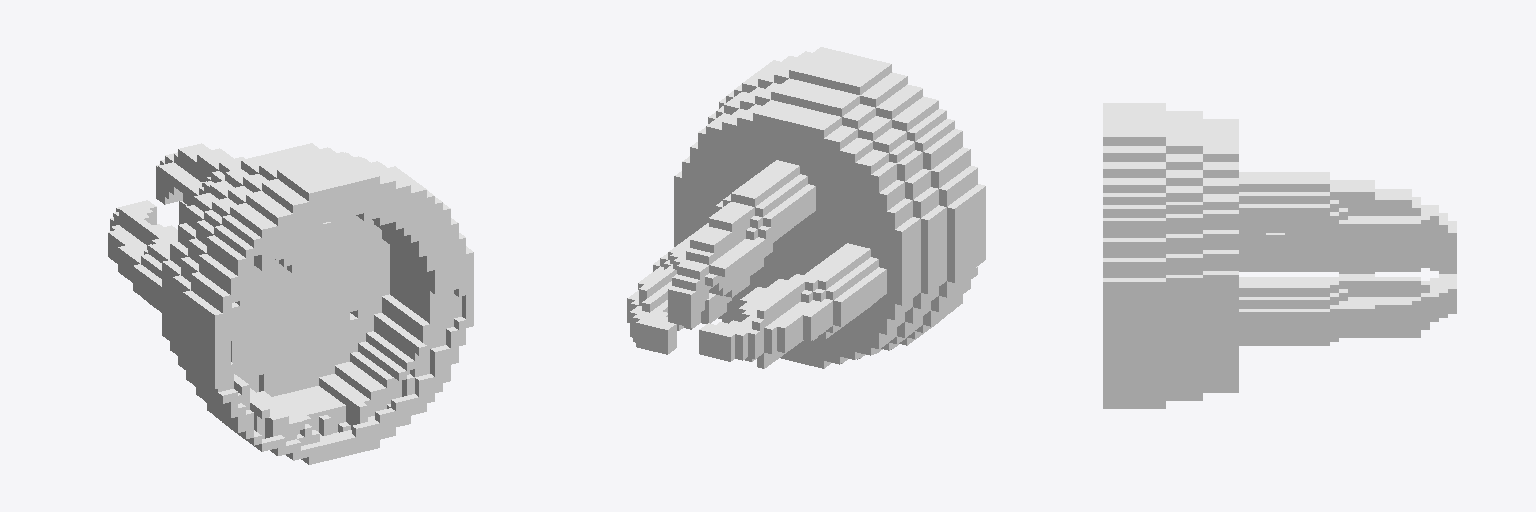
The model's file is enemy-arm.obj.
3 renders of one model, left to right at view 1: azimuth 30°, elevation 25°; view 2: azimuth 150°, elevation 25°; view 3: azimuth 270°, elevation 25°, orthographic.
Visible parts, largest first — view 1: object 1; view 2: object 1; view 3: object 1.
Part boxes in pixels (bbox=[...]): object 1: bbox=[108, 143, 473, 464]; object 1: bbox=[627, 47, 985, 368]; object 1: bbox=[1103, 103, 1456, 408].
Size of the model in its own units: 3.3 by 3.3 by 3.9.